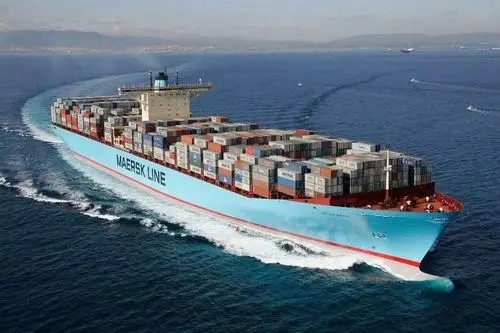Cargoship: (47, 67, 465, 272)
